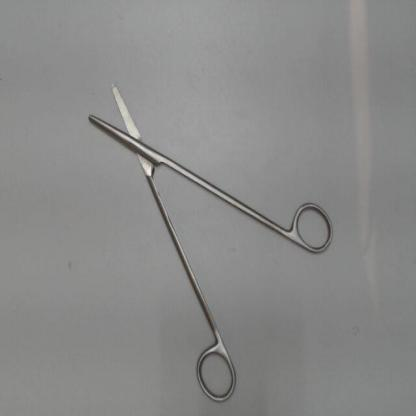9 Metzenbaum Scissors: (81, 68, 341, 410)
